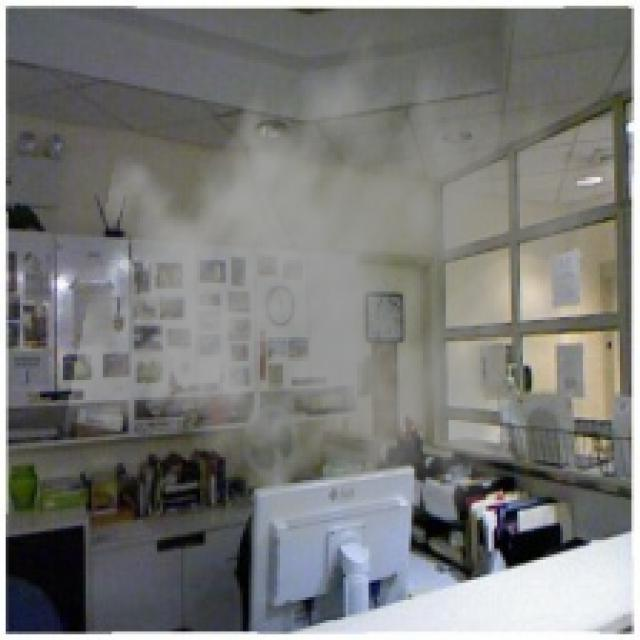Smoke: (63, 9, 606, 578)
